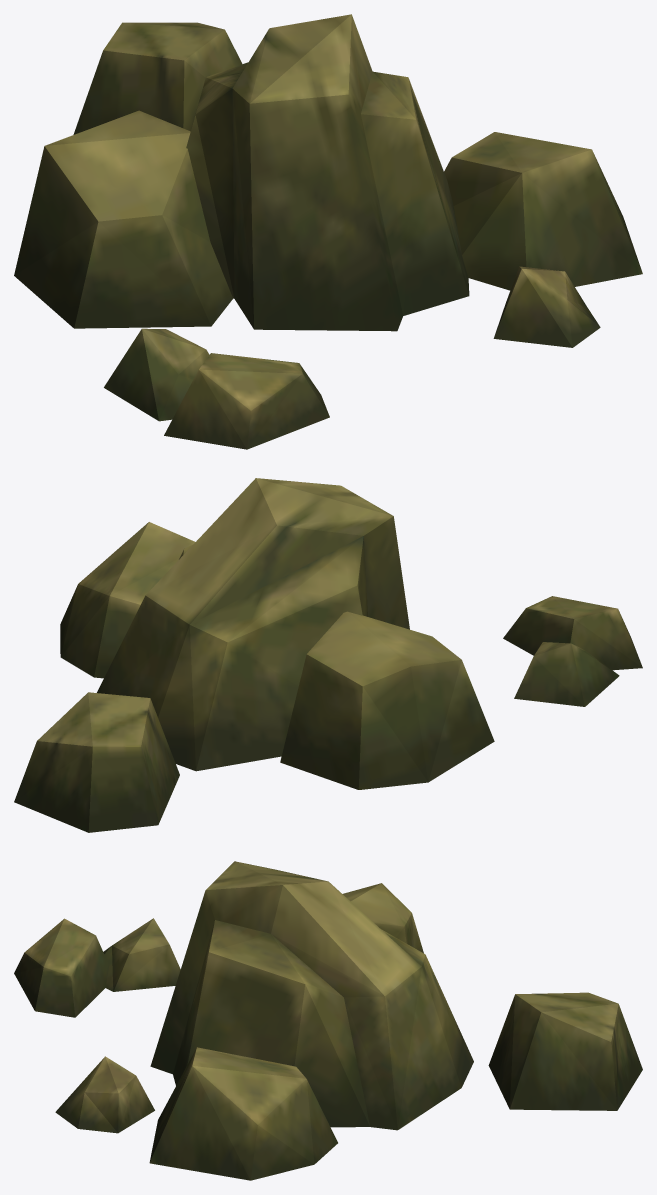
File: ShuiShiA_02.fbx
3 views of the same model, one above another, from view 1: azimuth 30°, elevation 25°; view 2: azimuth 150°, elevation 25°; view 3: azimuth 270°, elevation 25° (orthographic). The views are drawn at different scales.
Visible parts, largest first — view 1: ShuiShiA_02; view 2: ShuiShiA_02; view 3: ShuiShiA_02.
Boxes of the visible parts, x1,y1,x2,y2 form: ShuiShiA_02: (14, 14, 642, 449); ShuiShiA_02: (14, 478, 642, 832); ShuiShiA_02: (14, 861, 642, 1180).
Bounding box in the file's own units: 248 × 103 × 296.
